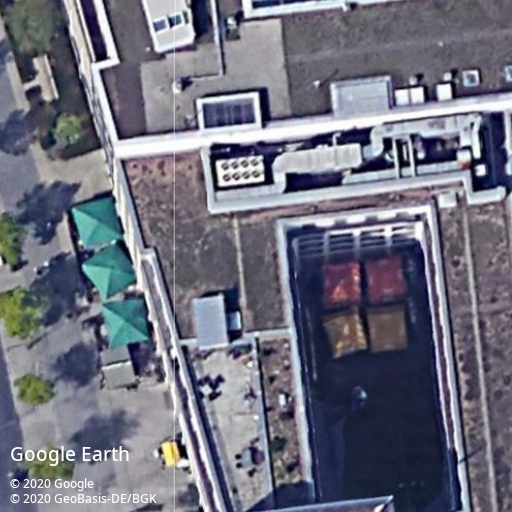Chiller: (216, 155, 266, 188)
